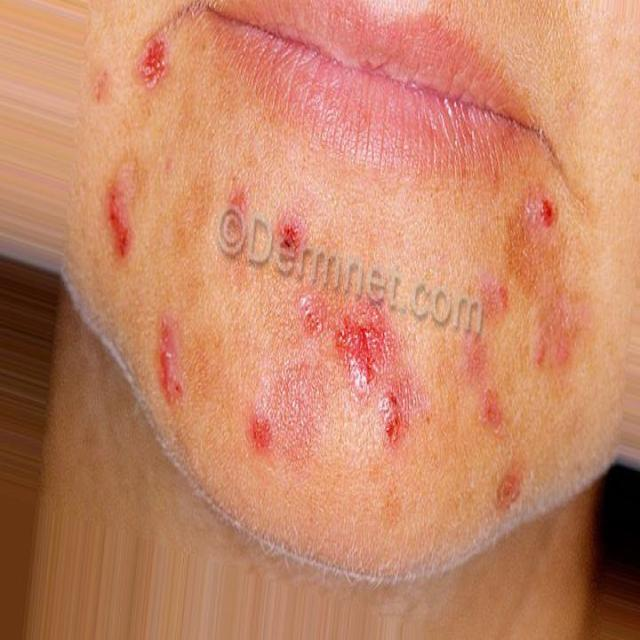acne: (343, 307, 408, 428), (98, 180, 150, 280), (152, 327, 194, 421), (538, 302, 579, 382), (486, 270, 526, 336), (140, 48, 178, 106), (531, 184, 566, 244), (244, 410, 282, 460), (226, 166, 254, 230), (460, 334, 488, 397), (280, 208, 299, 282), (303, 305, 328, 357), (500, 473, 526, 517), (96, 68, 118, 116), (488, 394, 512, 424)
